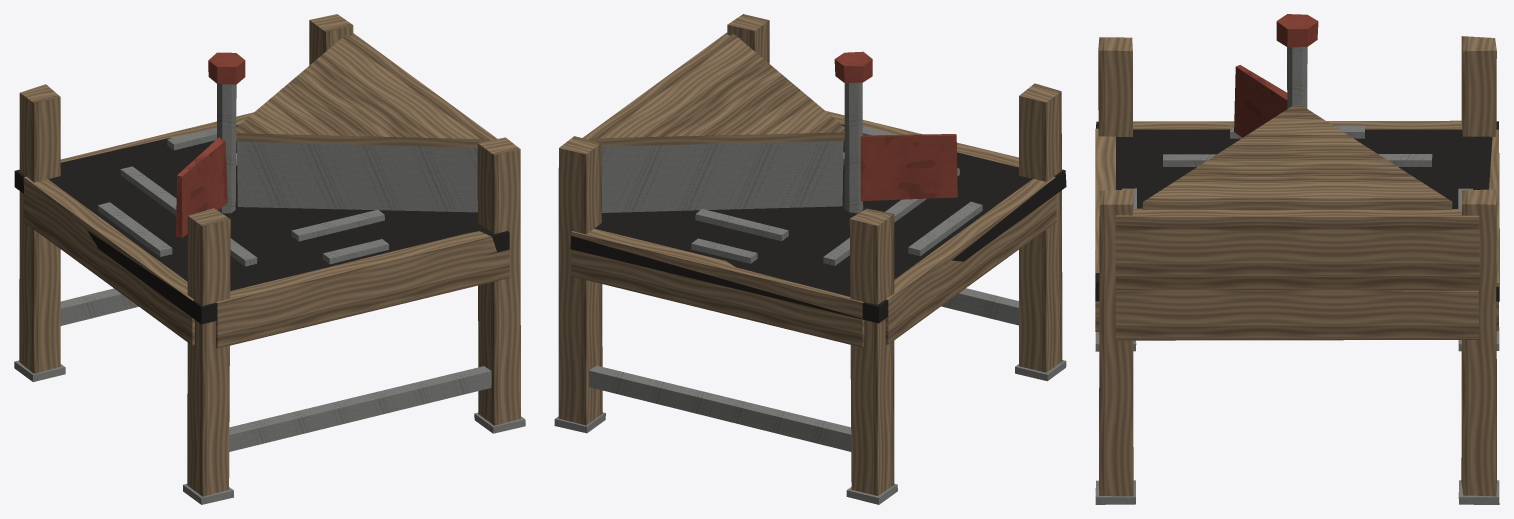
Rendered from splitter.glb.
3 renders of one model, left to right at view 1: azimuth 30°, elevation 25°; view 2: azimuth 150°, elevation 25°; view 3: azimuth 270°, elevation 25°, orthographic. The views are drawn at different scales.
Parts seen in each view (by area): view 1: Splitter; view 2: Splitter; view 3: Splitter.
Part boxes in pixels (left/top/right/bottom): Splitter: left=14, top=14, right=525, bottom=504; Splitter: left=554, top=14, right=1066, bottom=504; Splitter: left=1095, top=14, right=1499, bottom=504.
Size of the model in its own units: 1.68 by 1.73 by 1.68.
Materials: 4 (3 with a texture image).
